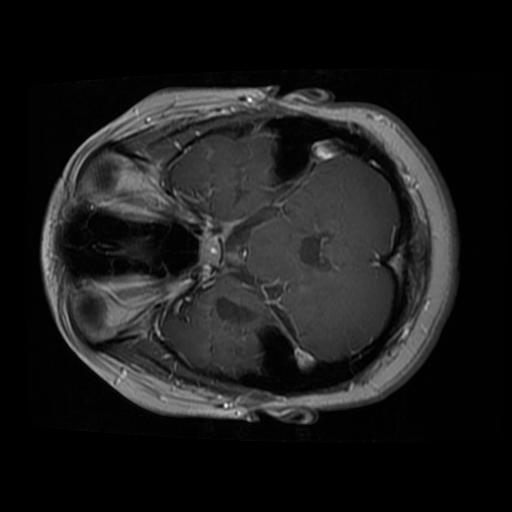glioma: (200, 291, 261, 340)
